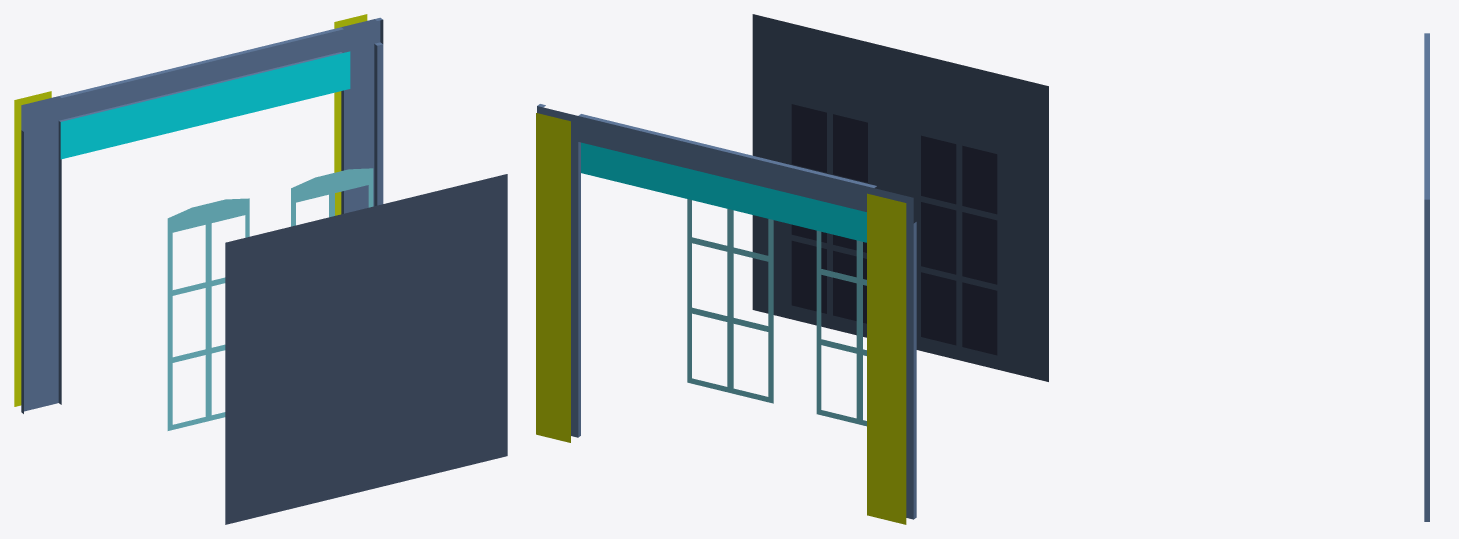
File: frozen_building_middle.fbx
The picture shows the model from 3 angles, left to right: view 1: azimuth 30°, elevation 25°; view 2: azimuth 150°, elevation 25°; view 3: azimuth 270°, elevation 25°; orthographic projection. The views are drawn at different scales.
Visible parts, largest first — view 1: frozen_building_middle; view 2: frozen_building_middle; view 3: frozen_building_middle.
Boxes of the visible parts, <box> form: frozen_building_middle: <box>14,14,507,524</box>; frozen_building_middle: <box>536,14,1048,524</box>; frozen_building_middle: <box>1424,33,1429,521</box>.
Size of the model in its own units: 610 by 498 by 511.
